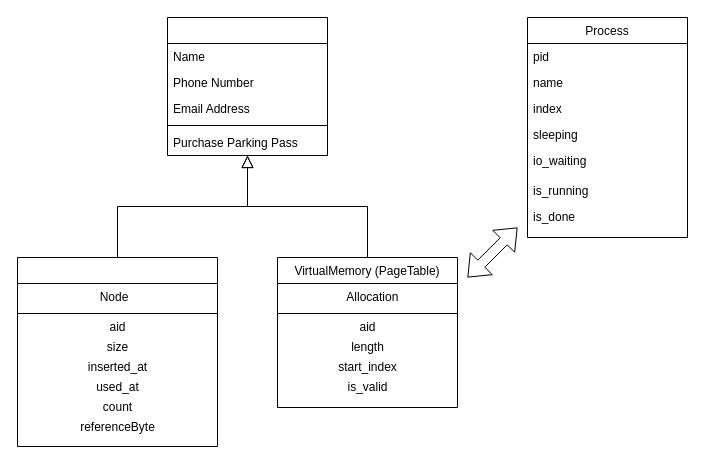
This 705x464 diagram has some shape labels left out. The shapes that lost their labels are listed below. From the top down, each one's box as (x1, y1, x2, y2) in pixels, then its label:
(166, 16, 328, 156): Memory
(16, 256, 218, 446): PhysicalMemory (BuddySystem)
